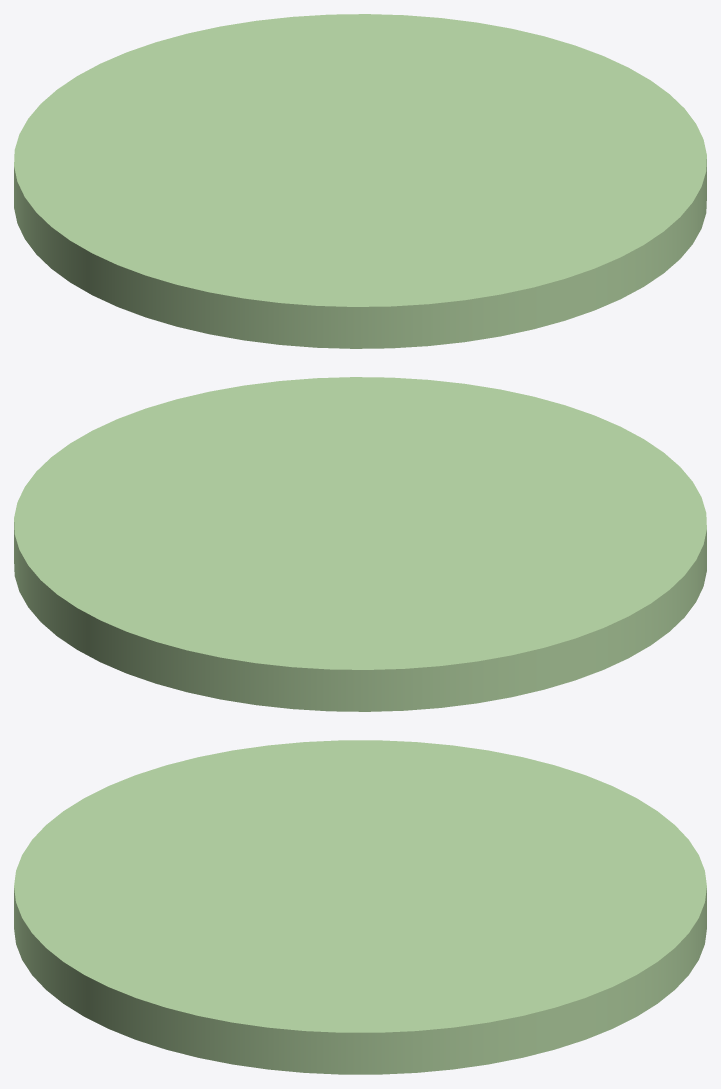
The model's file is Part Studio 1 - Part 45.gltf.
3 views of the same model, one above another, from view 1: azimuth 30°, elevation 25°; view 2: azimuth 150°, elevation 25°; view 3: azimuth 270°, elevation 25° (orthographic).
Visible parts, largest first — view 1: Part 45; view 2: Part 45; view 3: Part 45.
Boxes of the visible parts, left/top/right/bottom form: Part 45: left=14, top=14, right=706, bottom=348; Part 45: left=14, top=377, right=706, bottom=711; Part 45: left=14, top=740, right=706, bottom=1074.
Bounding box in the file's own units: 0.03 × 0.002 × 0.03.
